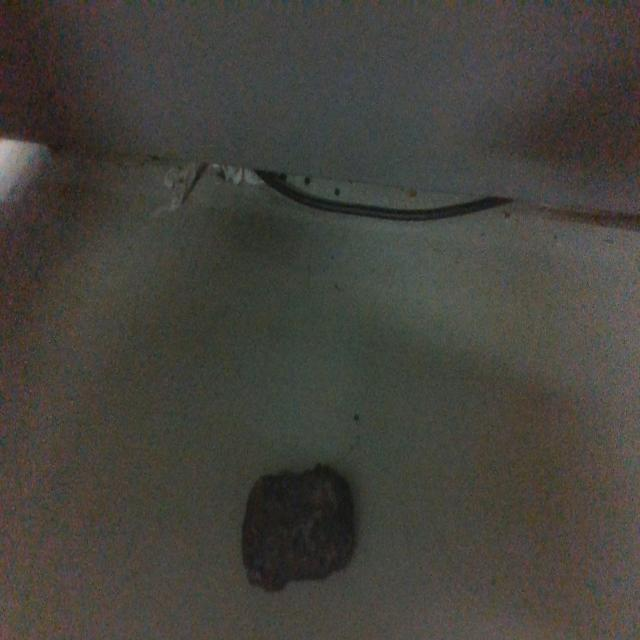stone: (242, 462, 356, 592)
